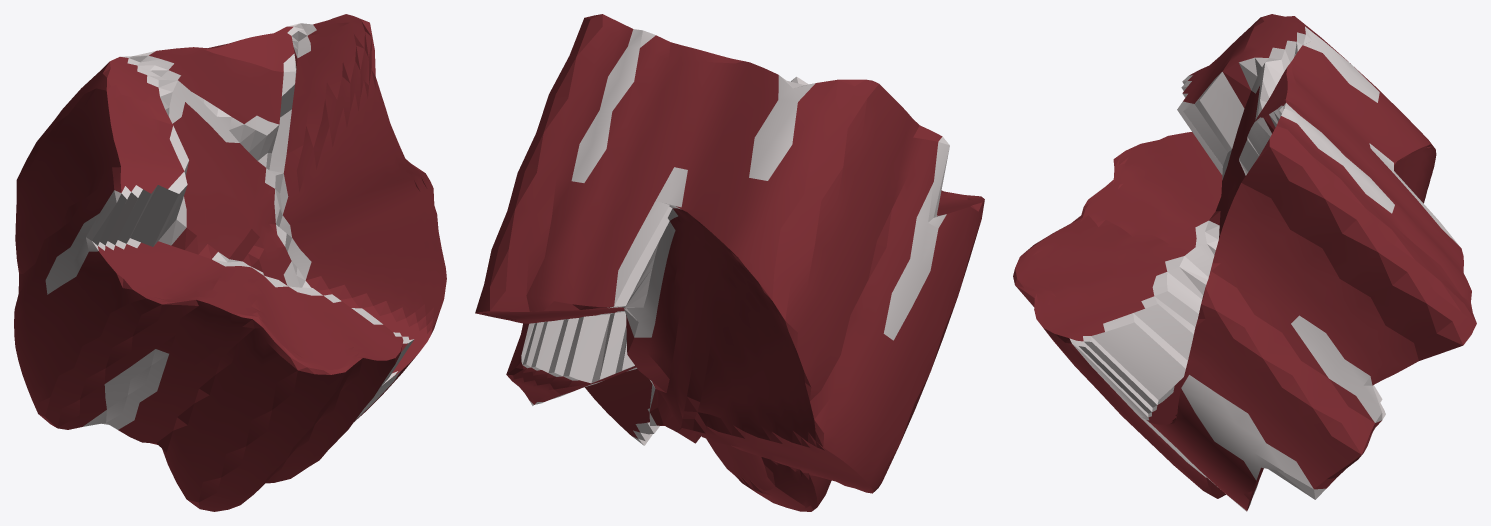
Rendered from medium-promethium-asteroid.glb.
The picture shows the model from 3 angles, left to right: view 1: azimuth 30°, elevation 25°; view 2: azimuth 150°, elevation 25°; view 3: azimuth 270°, elevation 25°; orthographic projection. The views are drawn at different scales.
Visible parts, largest first — view 1: body; view 2: body; view 3: body.
Boxes of the visible parts, x1=… form: body: x1=14, y1=14, x2=446, y2=511; body: x1=475, y1=14, x2=984, y2=511; body: x1=1013, y1=14, x2=1476, y2=511.
Bounding box in the file's own units: 2.71 × 3.33 × 3.23.
